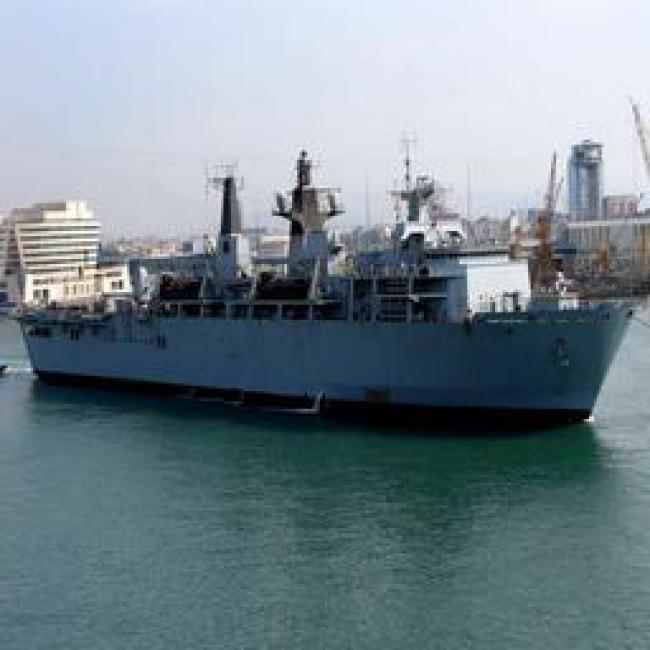Ship: (11, 250, 629, 439)
